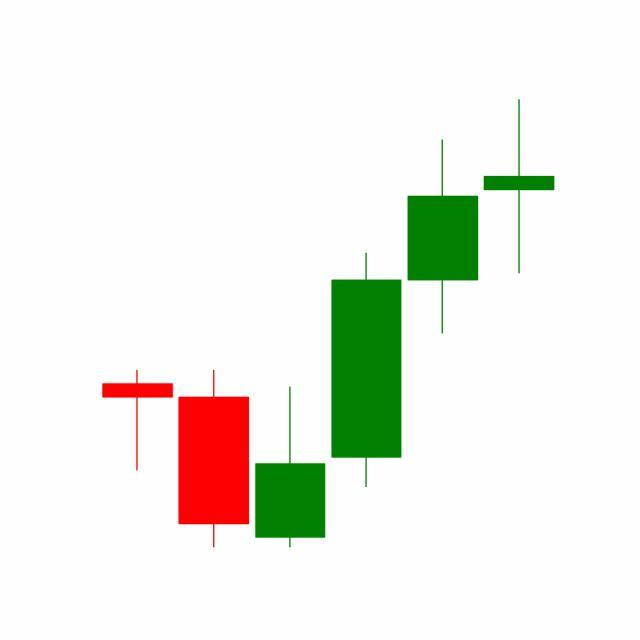Advance Block: (326, 99, 555, 492)
